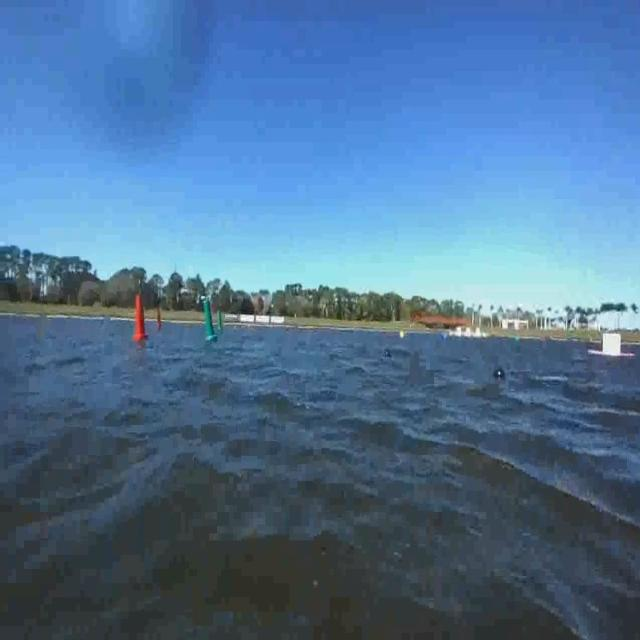green-column-buoy: (201, 299, 218, 341)
red-column-buoy: (134, 295, 149, 344), (155, 301, 162, 330)
